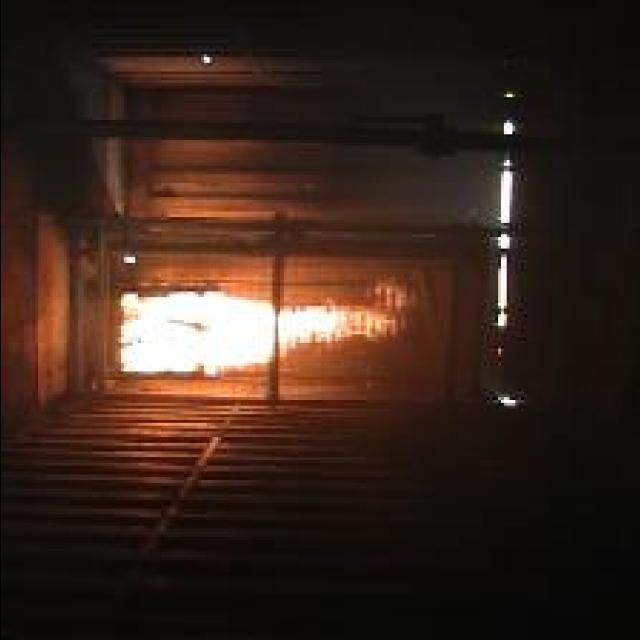Fire: (119, 282, 412, 376)
